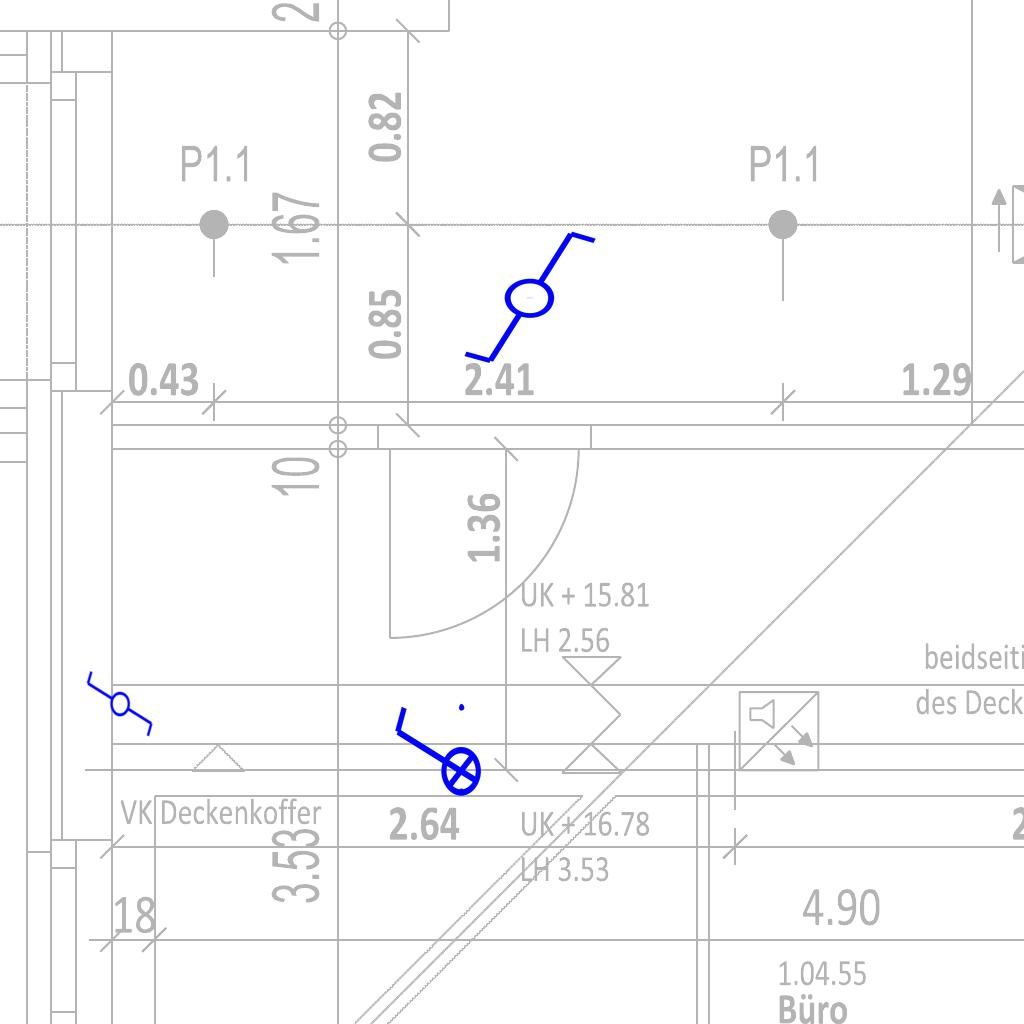Ausschalter_beleuchtet: (387, 698, 483, 810)
Wechselschalter: (443, 224, 600, 368), (83, 669, 155, 747)
